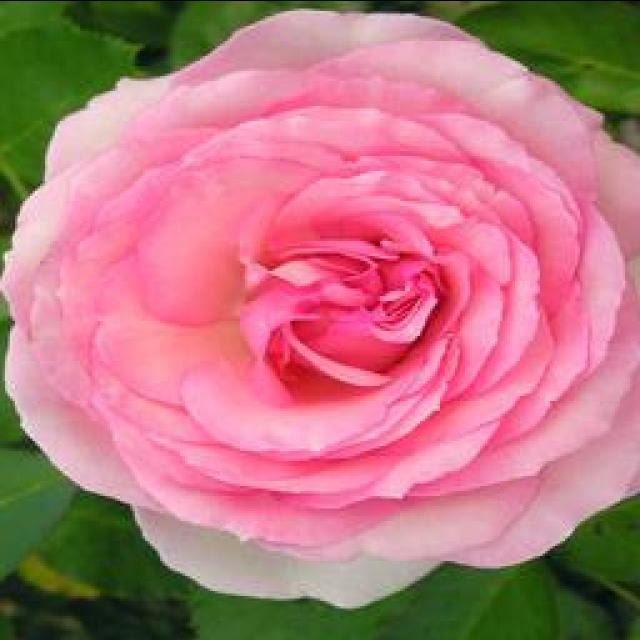rose: (5, 0, 640, 608)
